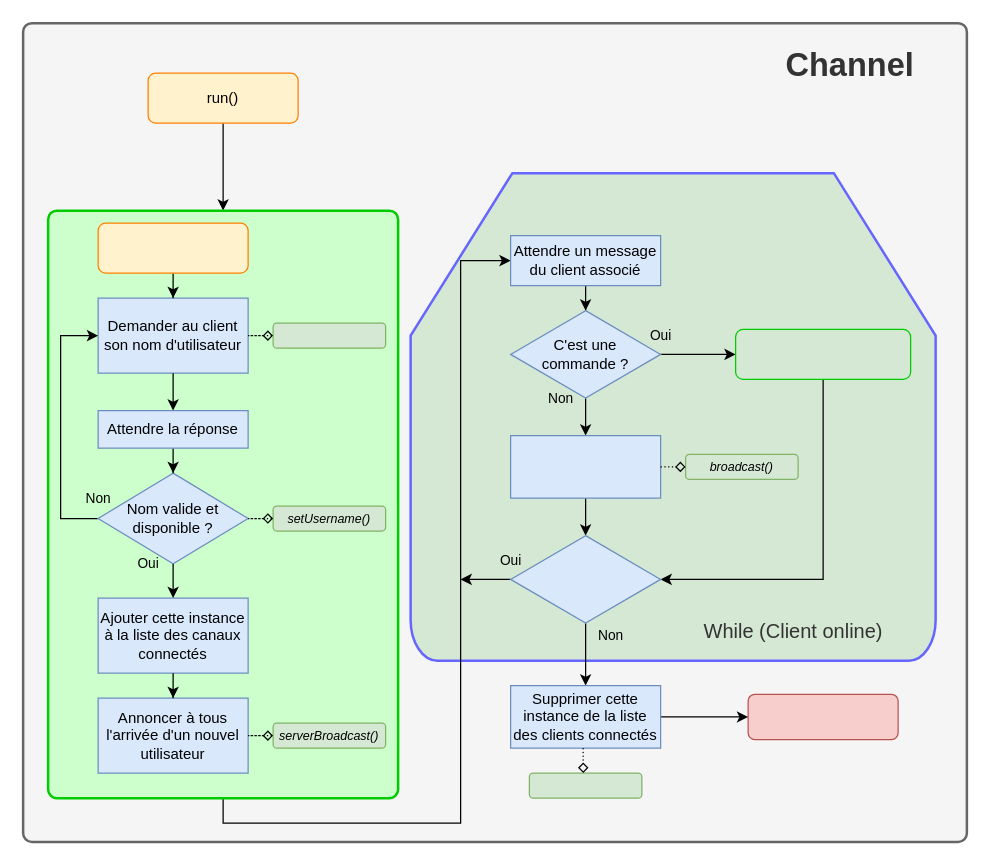
Some shapes in this 989 by 864 pixel diagram are drawn without their labels. The shapes that lost their labels are listed below. From the top down, each one's box as (x1, y1, x2, y2) in pixels, then its label:
(97, 222, 248, 273): init()
(272, 322, 386, 348): send()
(734, 328, 911, 379): execCommand()
(509, 434, 661, 498): C'est un message, le transmettre aux autres clients
(509, 534, 661, 623): Client toujours en ligne?
(747, 693, 898, 740): Arrêter ce thread
(528, 772, 642, 798): disconnect()
